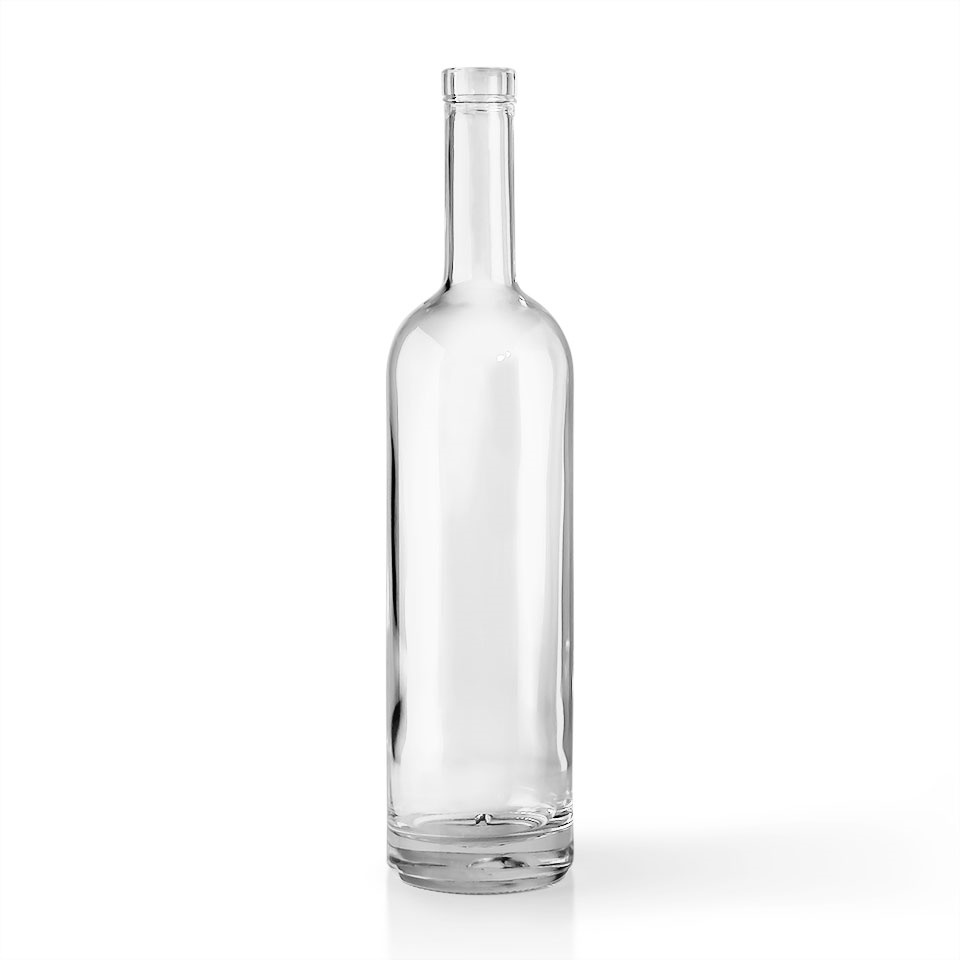emptybottle: (386, 67, 575, 897)
